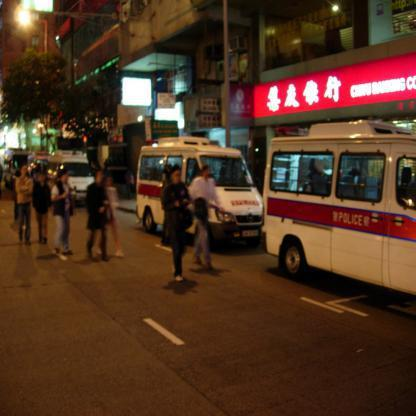Ambulance - v1 Ambulance last generate: (135, 137, 263, 256)
